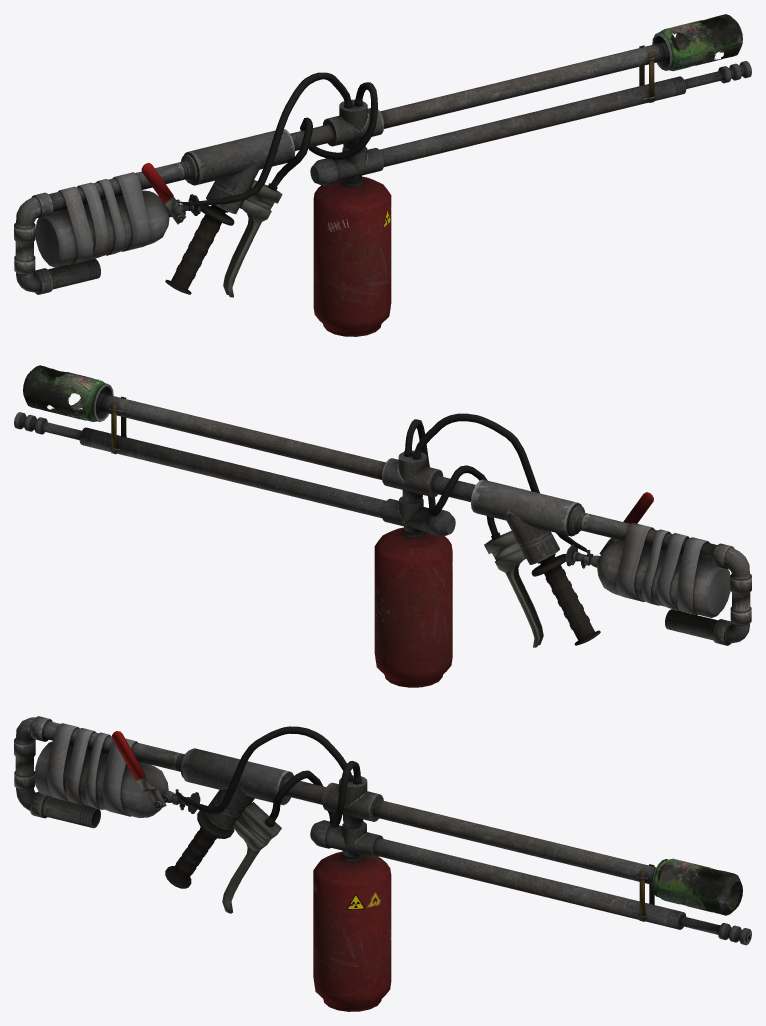
The model's file is flame.FBX.fbx.
The picture shows the model from 3 angles, top to bottom: view 1: azimuth 30°, elevation 25°; view 2: azimuth 150°, elevation 25°; view 3: azimuth 330°, elevation 25°; orthographic projection.
Parts seen in each view (by area): view 1: low; view 2: low; view 3: low.
Part boxes in pixels (x1=…): low: x1=14, y1=14, x2=751, y2=336; low: x1=14, y1=365, x2=751, y2=687; low: x1=14, y1=716, x2=751, y2=1011.
Bounding box in the file's own units: 1577 × 553 × 149.
